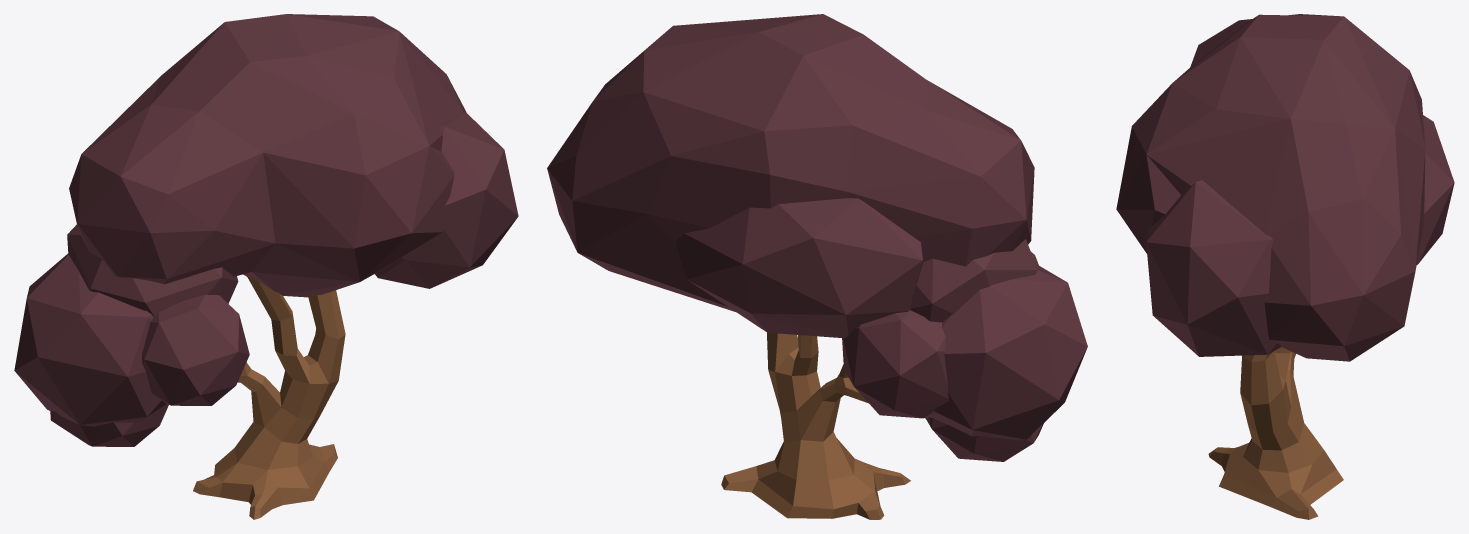
File: tree-bonsai.fbx
3 views of the same model, side by side, from view 1: azimuth 30°, elevation 25°; view 2: azimuth 150°, elevation 25°; view 3: azimuth 270°, elevation 25° (orthographic). The views are drawn at different scales.
Parts seen in each view (by area): view 1: tree-bonsai; view 2: tree-bonsai; view 3: tree-bonsai.
Boxes of the visible parts, bbox=[...] form: tree-bonsai: bbox=[14, 14, 518, 519]; tree-bonsai: bbox=[547, 14, 1087, 519]; tree-bonsai: bbox=[1116, 14, 1454, 519].
Size of the model in its own units: 11.1 by 10.07 by 6.73.
